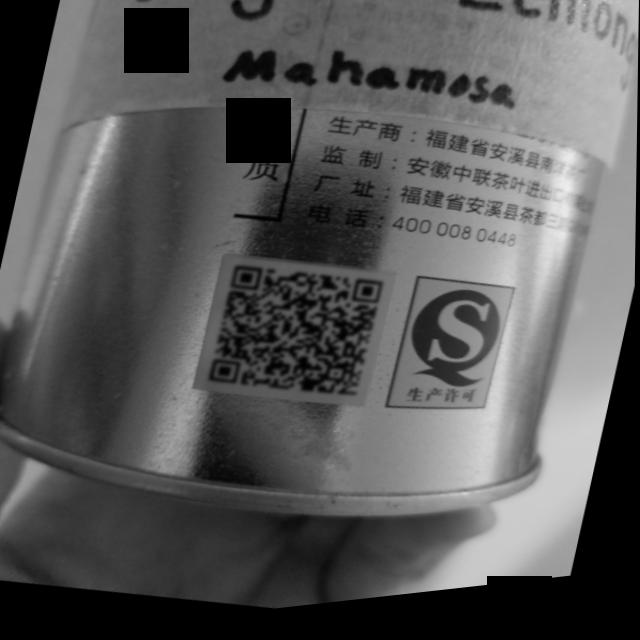QR_CODE: (194, 243, 398, 430)
